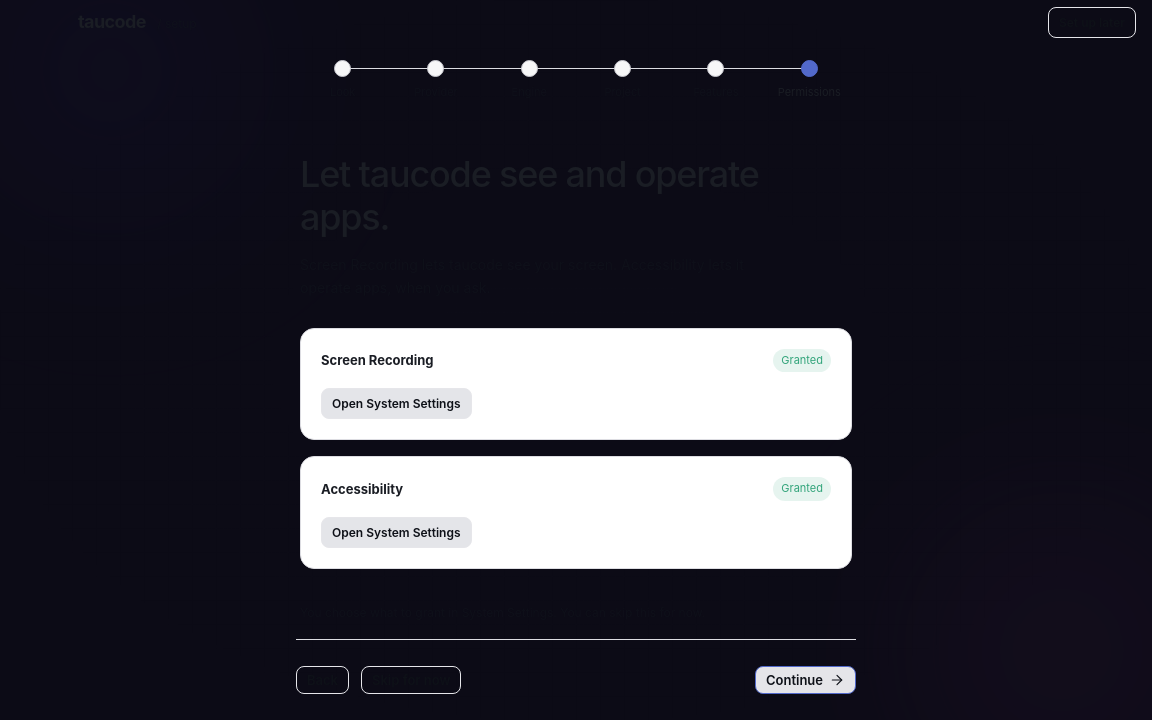
continues optional permissions and records granted=true accurately
This screenshot has width=1152, height=720.
Click the button "Continue". click: coordinates (806, 680)
box: [755, 666, 856, 694]
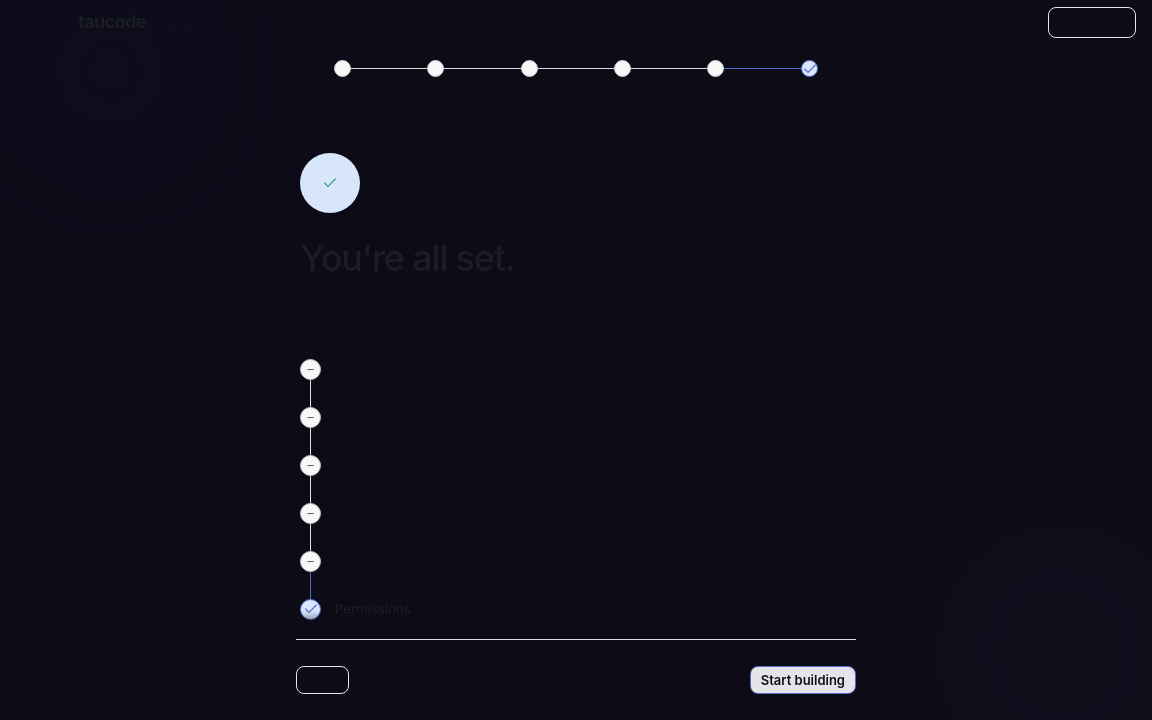
Check: the list item "Permissions Ready" is shown, box [300, 599, 852, 620]
